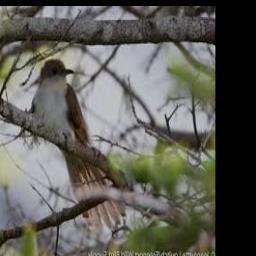Cuckoo: (31, 58, 127, 231)
